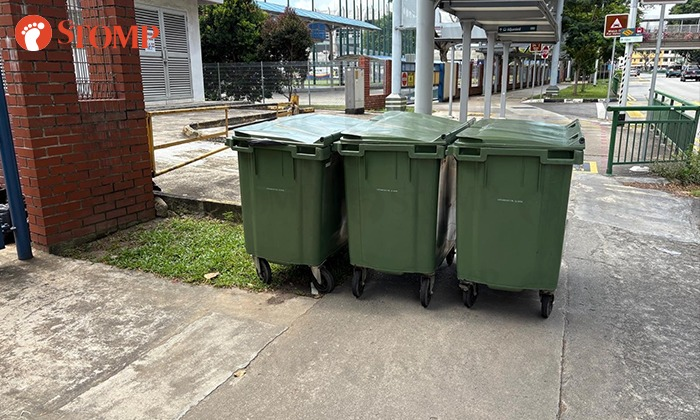bin_empty: (447, 119, 585, 317), (334, 111, 474, 306), (226, 114, 361, 292)
